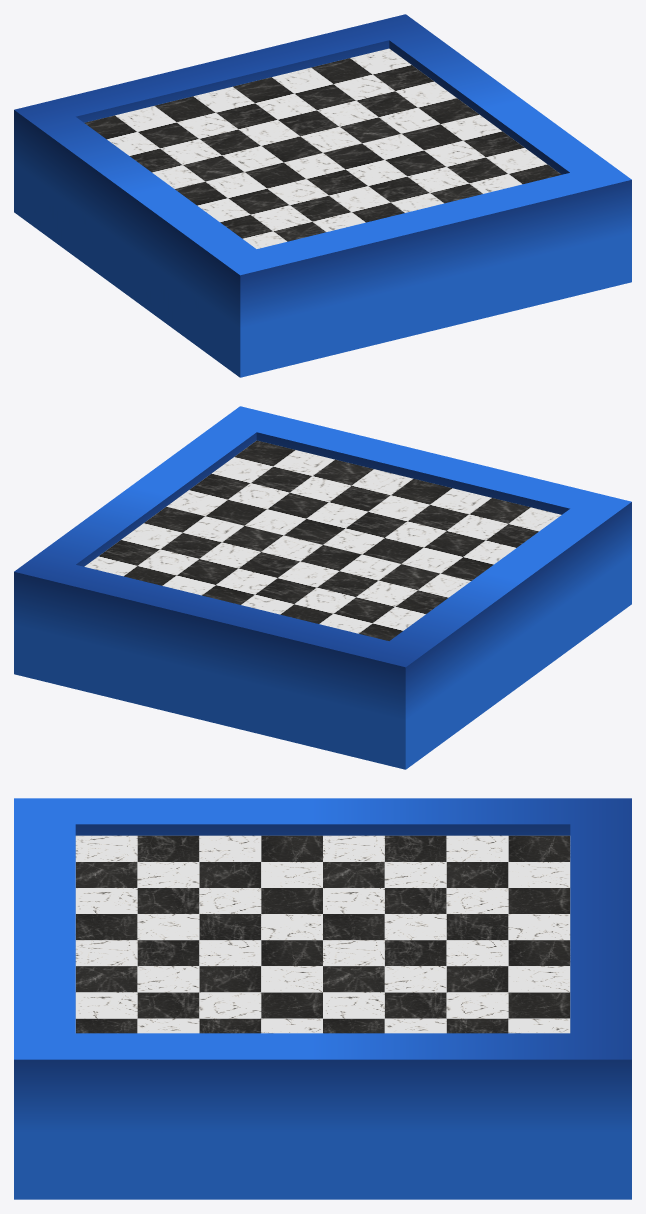
Rendered from TILE_002_Card.fbx.
3 views of the same model, one above another, from view 1: azimuth 30°, elevation 25°; view 2: azimuth 150°, elevation 25°; view 3: azimuth 270°, elevation 25° (orthographic). The views are drawn at different scales.
Parts seen in each view (by area): view 1: TILE_001_Card; view 2: TILE_001_Card; view 3: TILE_001_Card.
Boxes of the visible parts, bbox=[...] form: TILE_001_Card: bbox=[14, 14, 631, 377]; TILE_001_Card: bbox=[14, 406, 631, 769]; TILE_001_Card: bbox=[14, 798, 631, 1199].
Size of the model in its own units: 98.43 by 24.61 by 98.43.
